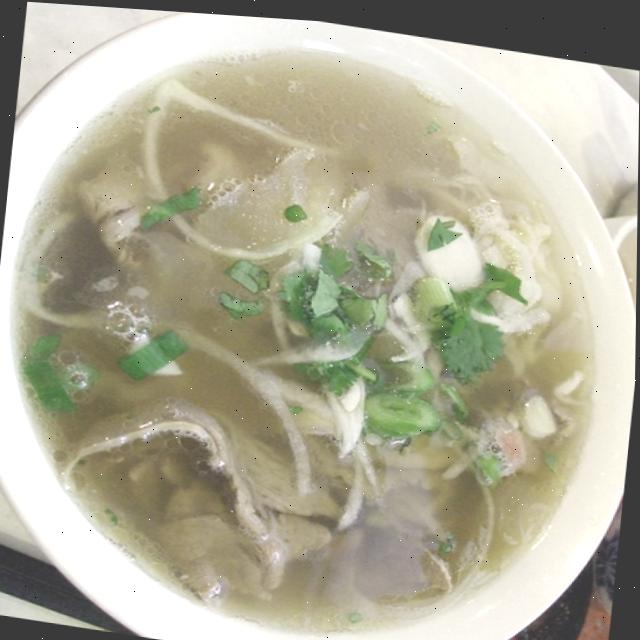面条主食: (0, 23, 618, 640)
